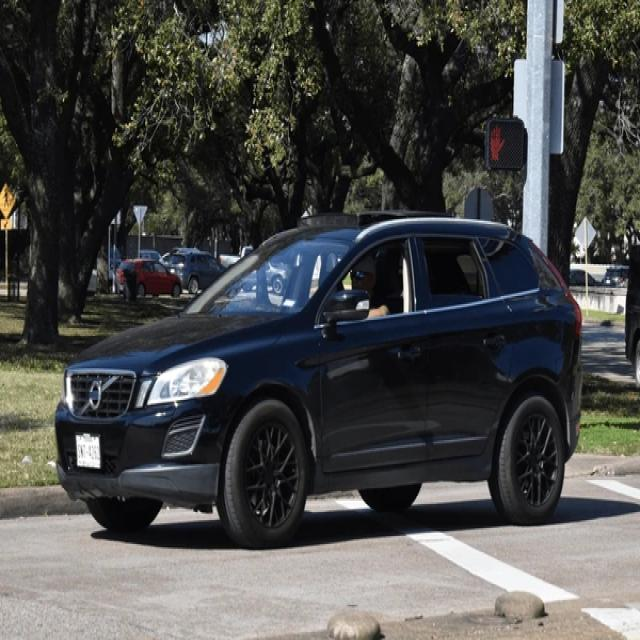volvo: (77, 374, 114, 419)
